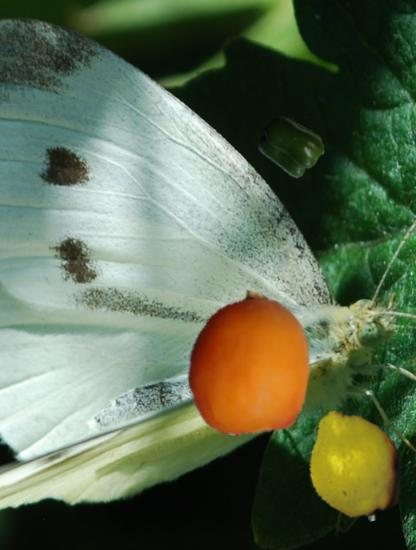Apricot: (176, 291, 323, 438)
Pepper: (258, 114, 323, 179)
Quince: (296, 407, 413, 524)
